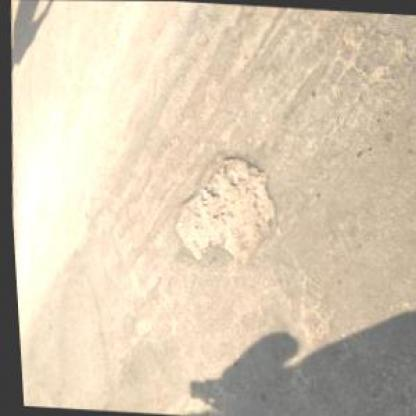pothole: (165, 147, 280, 265)
